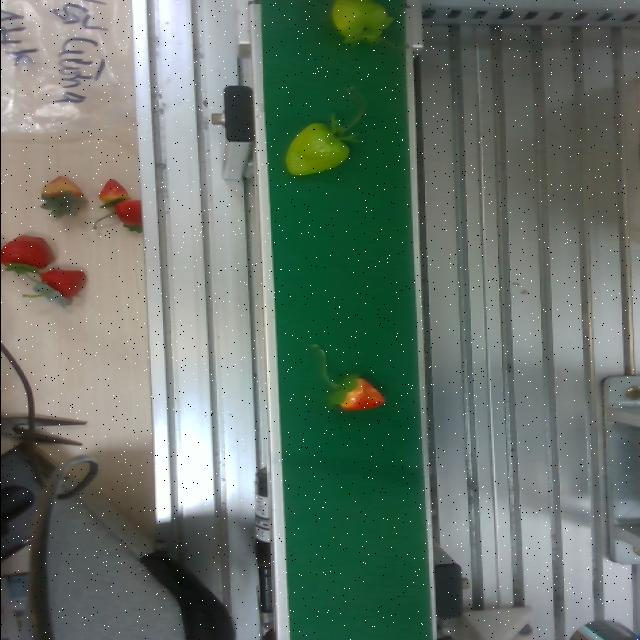Small Unripe Strawberry: (284, 108, 368, 178), (318, 353, 392, 422), (327, 1, 388, 56)
conveyor: (274, 0, 416, 640)
